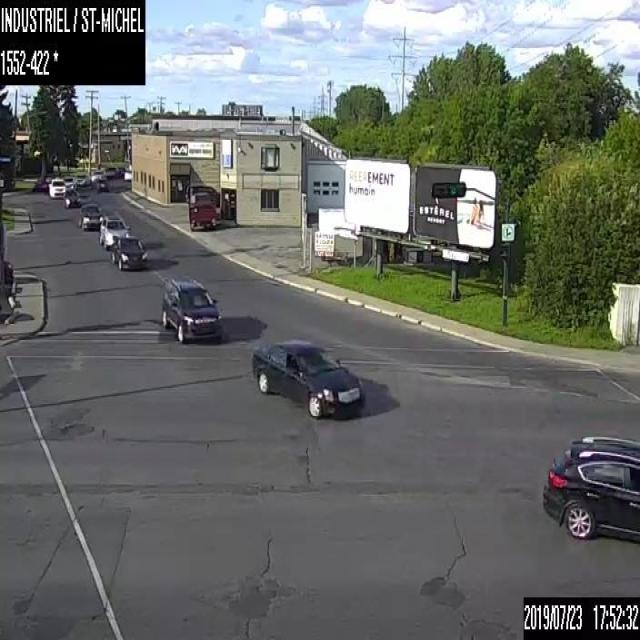vehicle: (542, 434, 639, 542), (250, 337, 365, 419), (159, 276, 224, 344), (185, 183, 217, 231), (111, 233, 147, 270), (99, 214, 130, 249), (77, 202, 103, 231), (48, 176, 66, 198), (64, 188, 80, 208), (62, 174, 77, 190), (95, 175, 108, 191), (75, 172, 89, 185), (90, 170, 104, 182)
